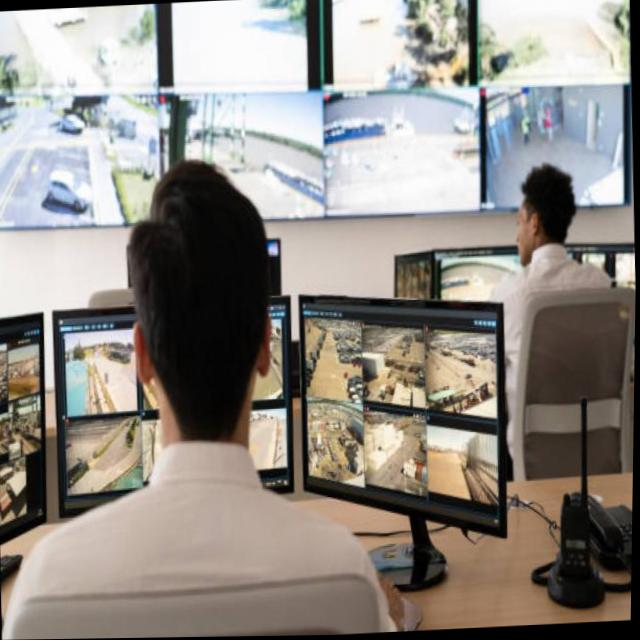no helmet: (128, 153, 280, 458)
